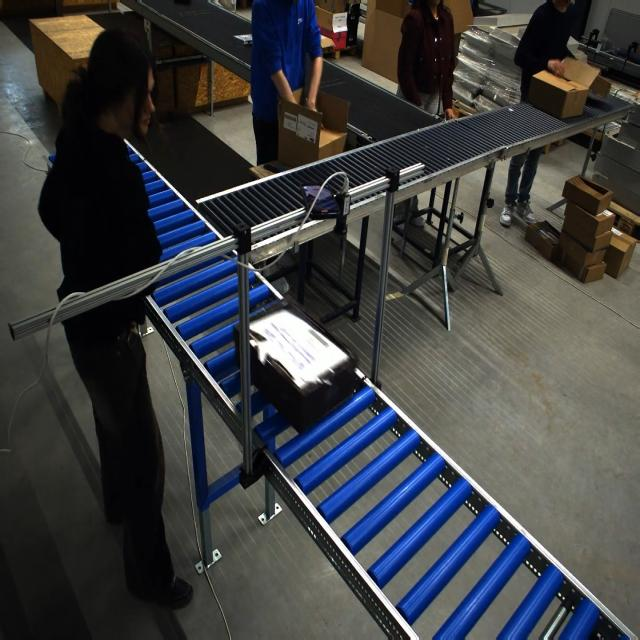box: (239, 298, 354, 432), (527, 70, 589, 120)
product: (233, 33, 252, 45)
